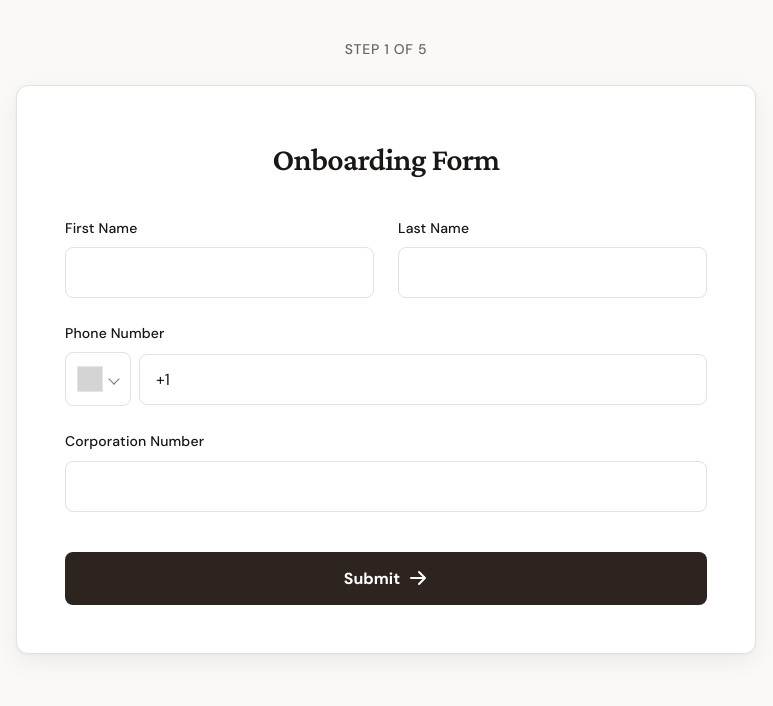
Test case: OnboardingForm › 09 - shows API error message on submission failure
This screenshot has width=773, height=706.
Note: Fill in all fields
Type "John" into the field labelled "First Name". click: (220, 273)
box: [65,247,374,298]
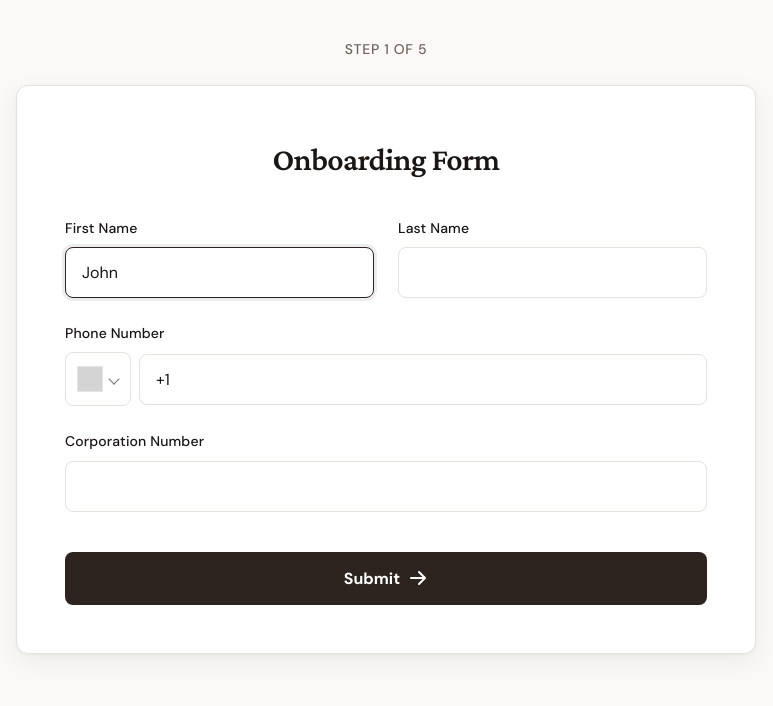
Type "Doe" into the field labelled "Last Name". click: (552, 273)
box: [398,247,707,298]
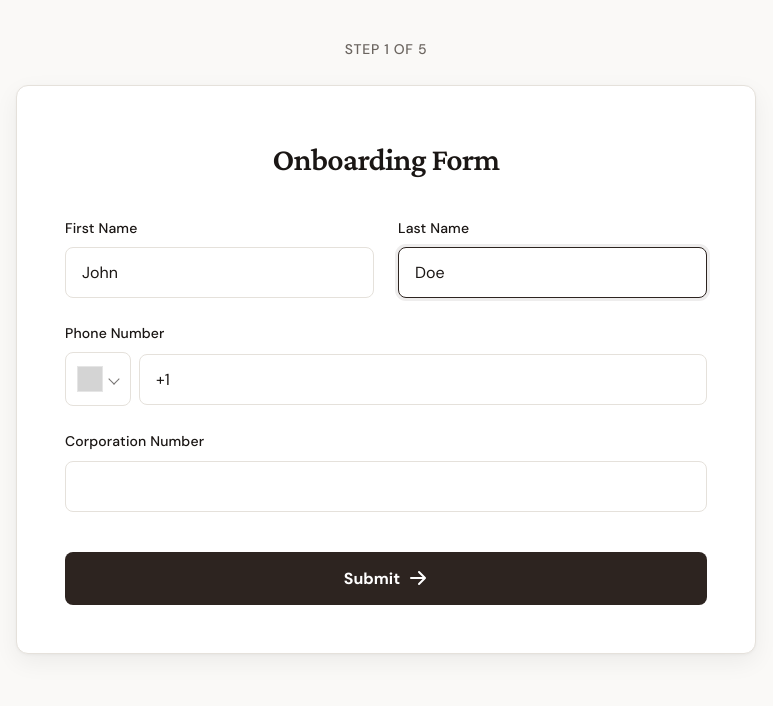
Type "+13062776103" into the field labelled "Phone Number". click: (423, 380)
box: [139,354,707,405]
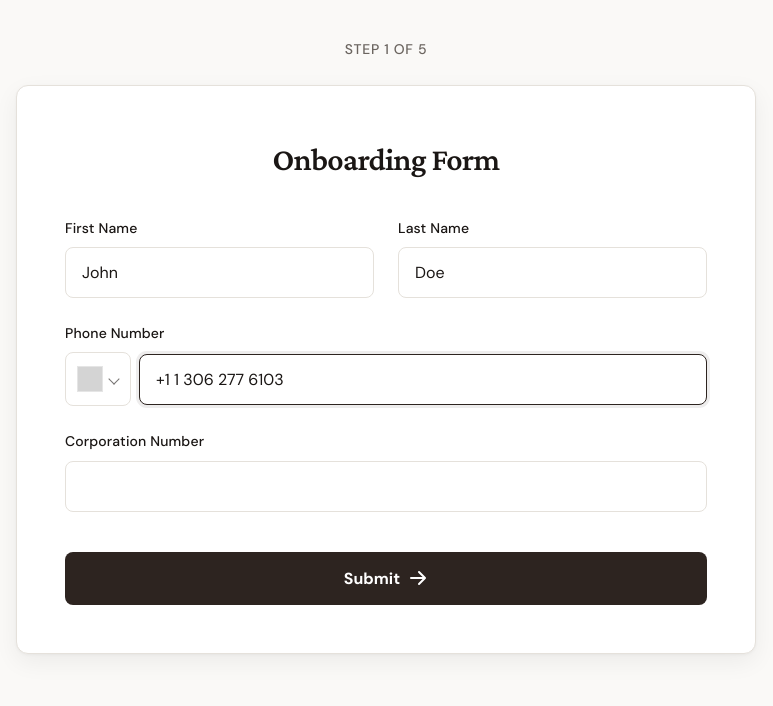
Type "123456789" into the field labelled "Corporation Number". click: (386, 486)
box: [65,461,707,512]
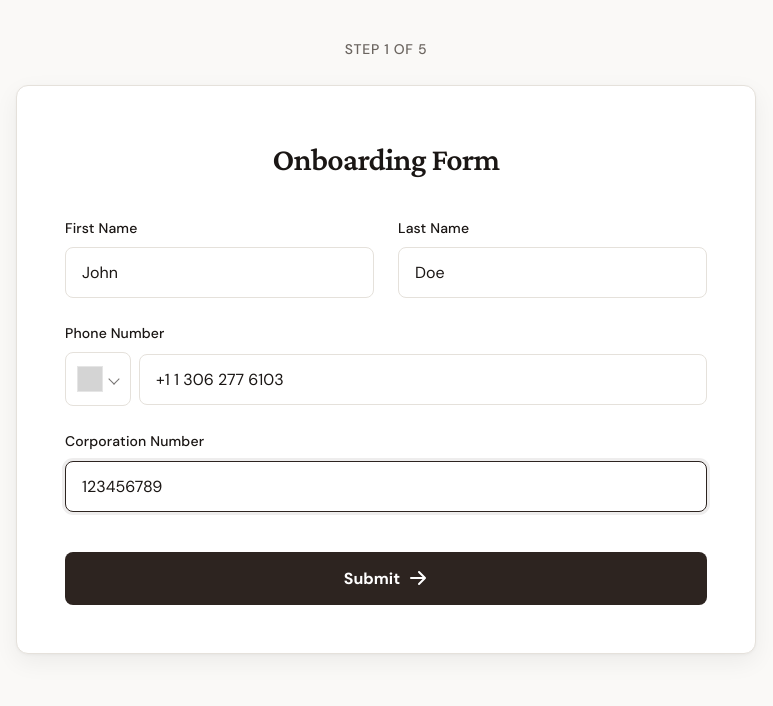
Press Tab
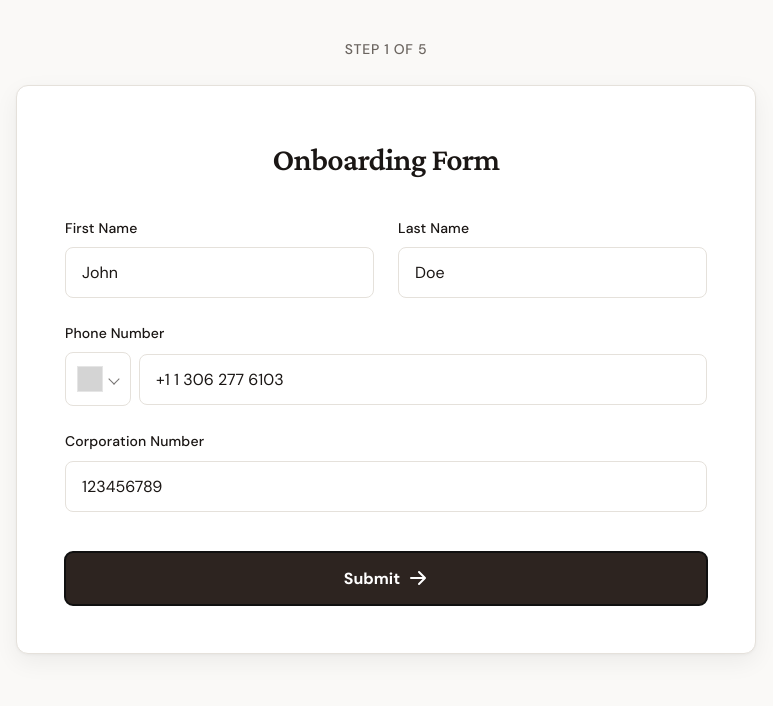
Click the button "Submit". click: (386, 578)
box: [65,552,707,605]
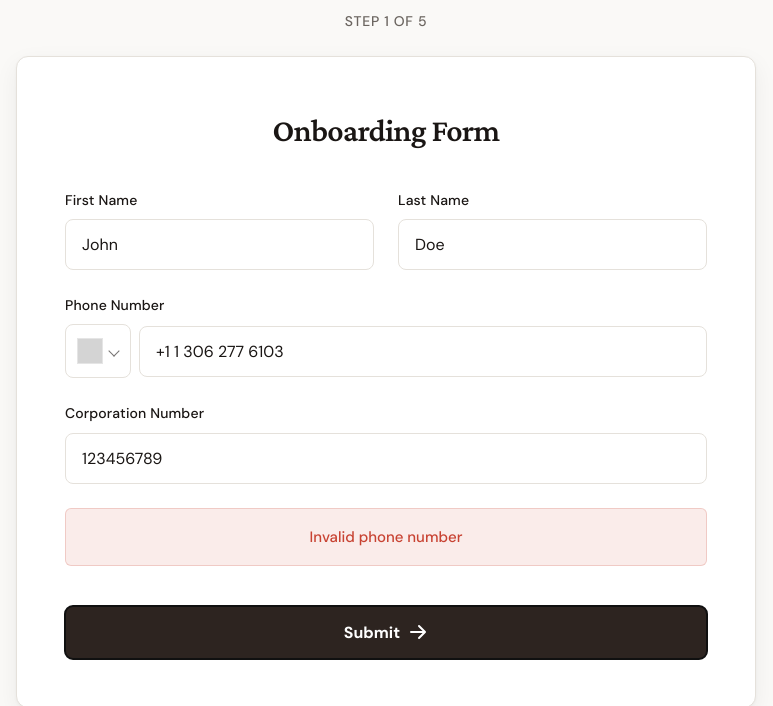
Expected: the text "Invalid phone number" is shown, [65,508,707,566]
